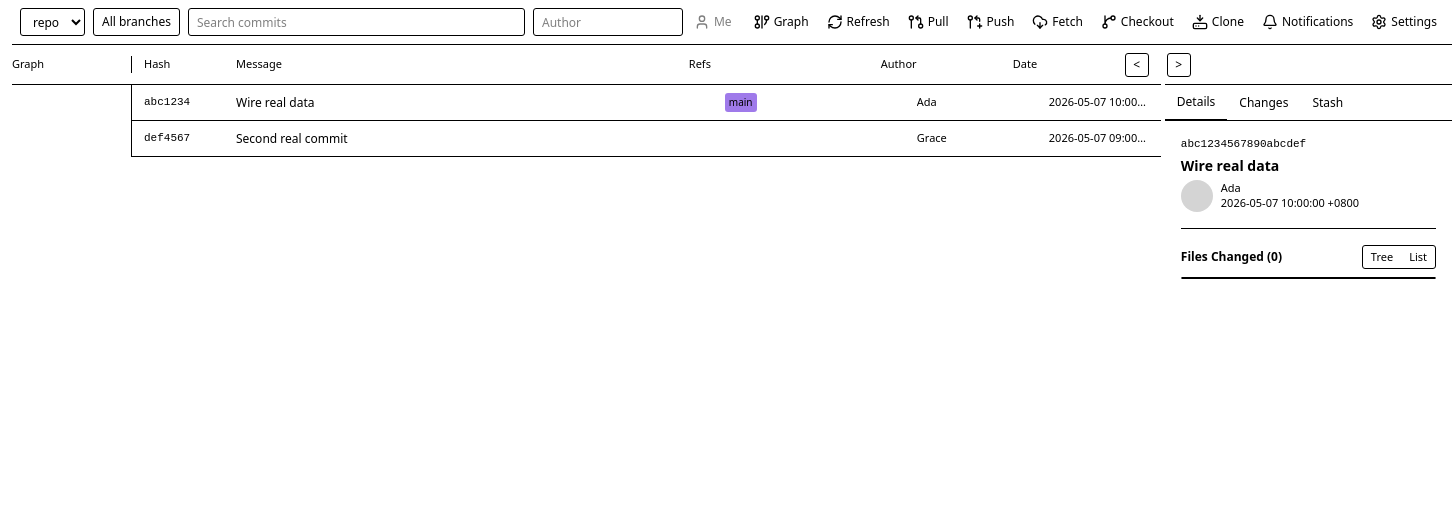
App › switches to details when selecting a commit from the Changes tab
The width and height of the screenshot is (1452, 520).
Click the tab "Changes". click: [1264, 102]
box: [1227,85,1300,120]
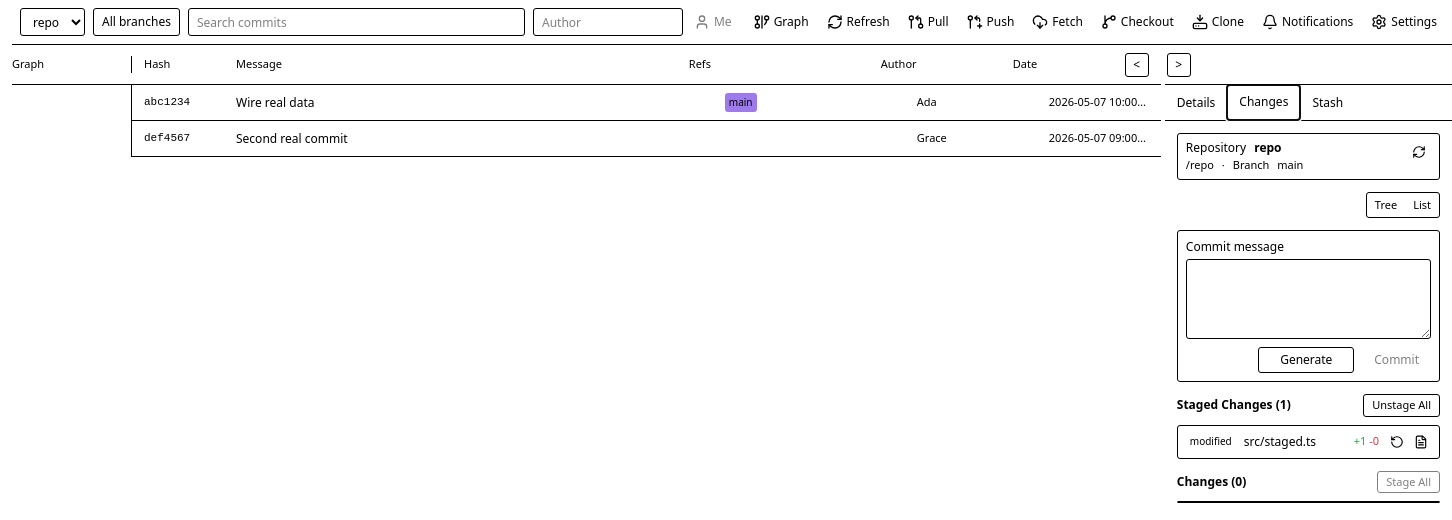
Click the element with test id "commit-row" that starts with "def4567". click: [646, 139]
box: [132,121,1161,157]
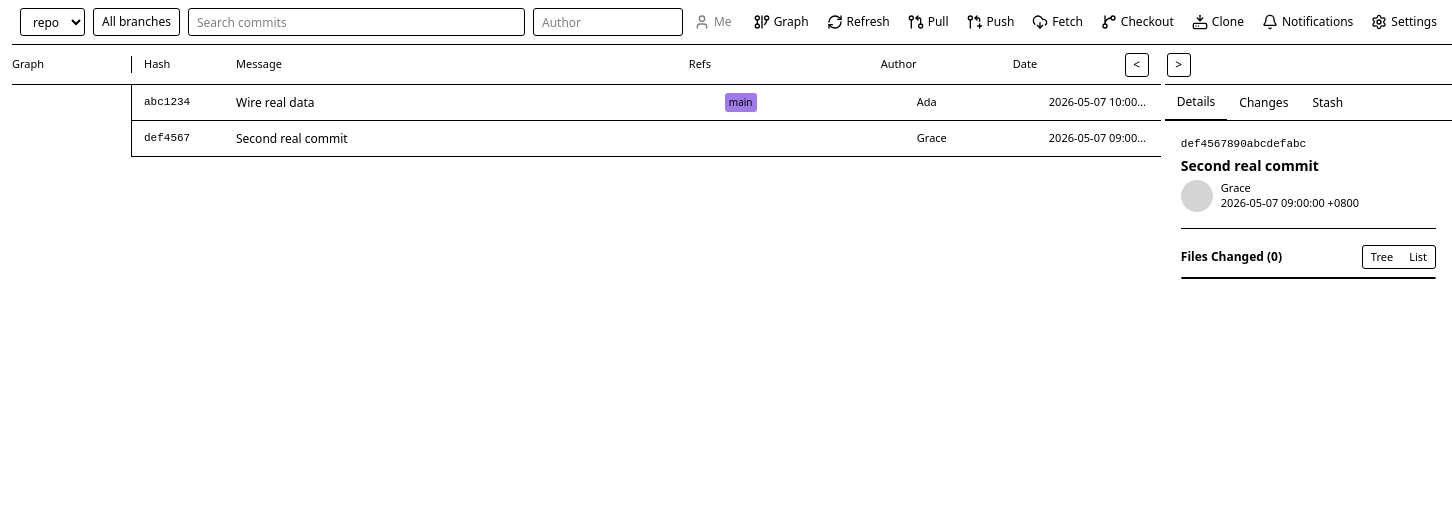
Check: the heading "Second real commit" is shown, box [1181,156,1319,175]
